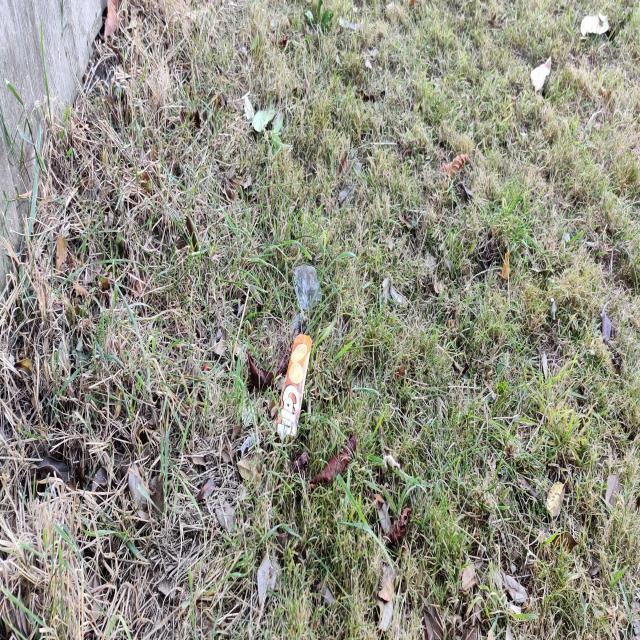litter: (277, 327, 314, 452)
